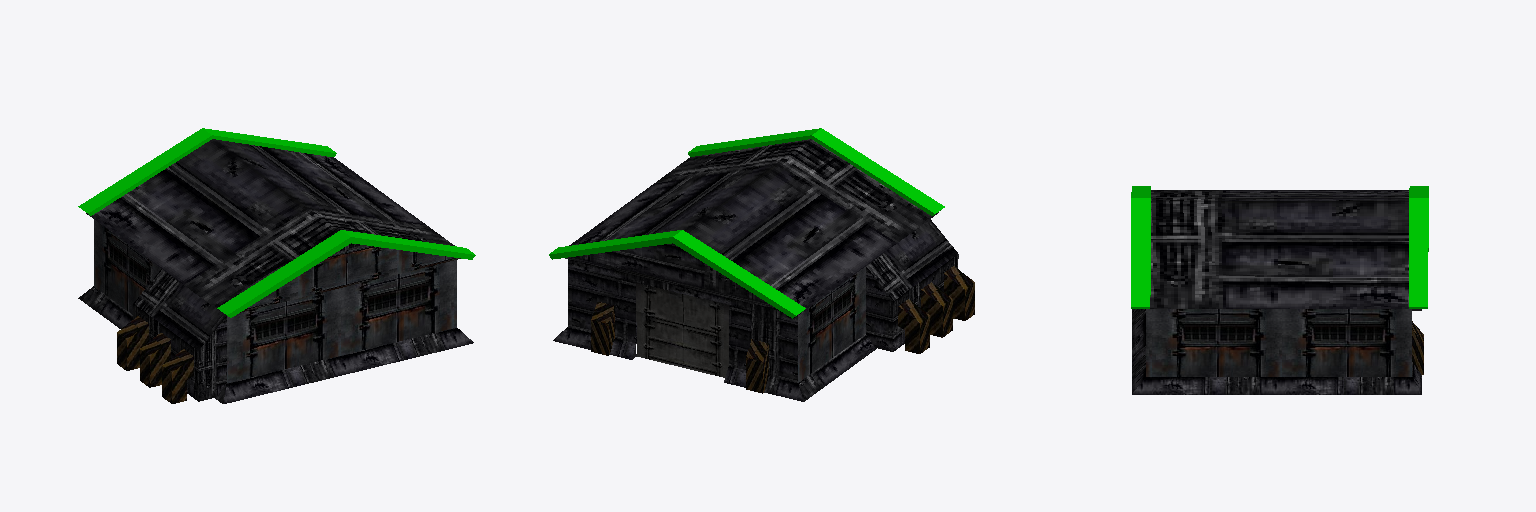
3 renders of one model, left to right at view 1: azimuth 30°, elevation 25°; view 2: azimuth 150°, elevation 25°; view 3: azimuth 270°, elevation 25°, orthographic.
Parts seen in each view (by area): view 1: Barrack; view 2: Barrack; view 3: Barrack.
Part boxes in pixels (left/top/right/bottom): Barrack: left=78, top=128, right=475, bottom=403; Barrack: left=549, top=128, right=974, bottom=401; Barrack: left=1131, top=186, right=1428, bottom=394.
Bounding box in the file's own units: 995 × 447 × 883.
5 materials, 4 textured.